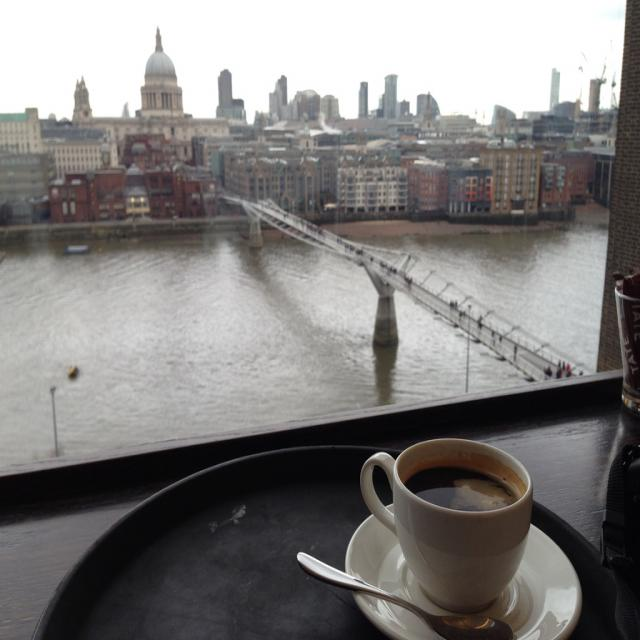Coffee: (405, 464, 520, 516)
Tea: (402, 461, 526, 512)
